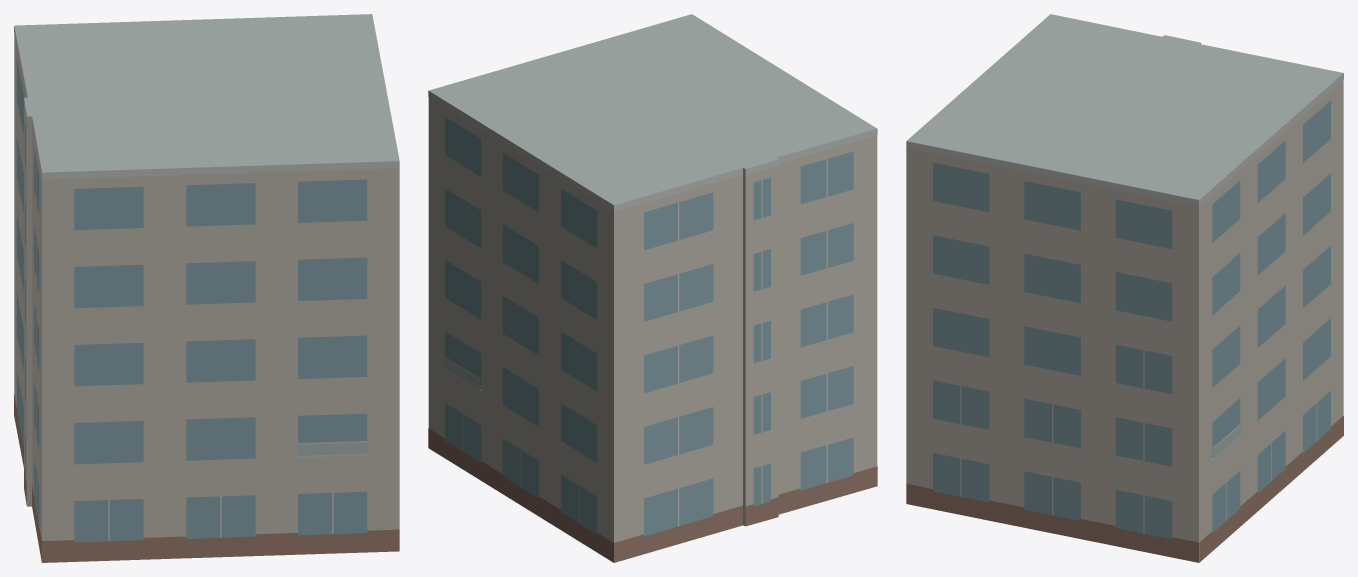
The model's file is survey-upis-32998690.glb.
3 renders of one model, left to right at view 1: azimuth 30°, elevation 25°; view 2: azimuth 150°, elevation 25°; view 3: azimuth 270°, elevation 25°, orthographic. The views are drawn at different scales.
Parts seen in each view (by area): view 1: survey-upis-32998690.tmp; view 2: survey-upis-32998690.tmp; view 3: survey-upis-32998690.tmp.
Part boxes in pixels (x1,y1,x2,y2): survey-upis-32998690.tmp: (14, 14, 399, 562); survey-upis-32998690.tmp: (428, 14, 877, 562); survey-upis-32998690.tmp: (906, 14, 1343, 562).
Size of the model in its own units: 14.97 by 13.6 by 14.87.
